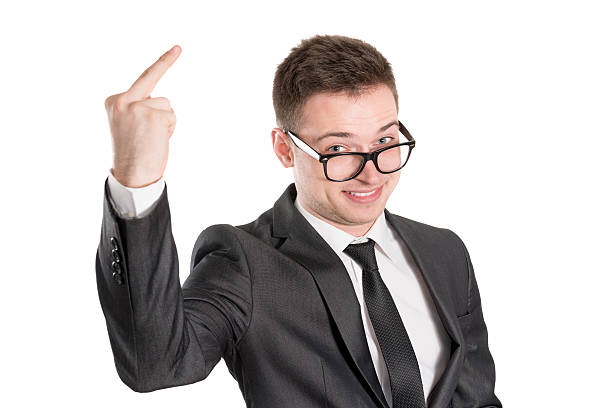insulting_gesture: (100, 42, 188, 183)
